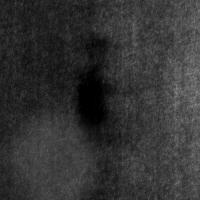patches: (5, 106, 107, 200), (75, 67, 108, 139)
